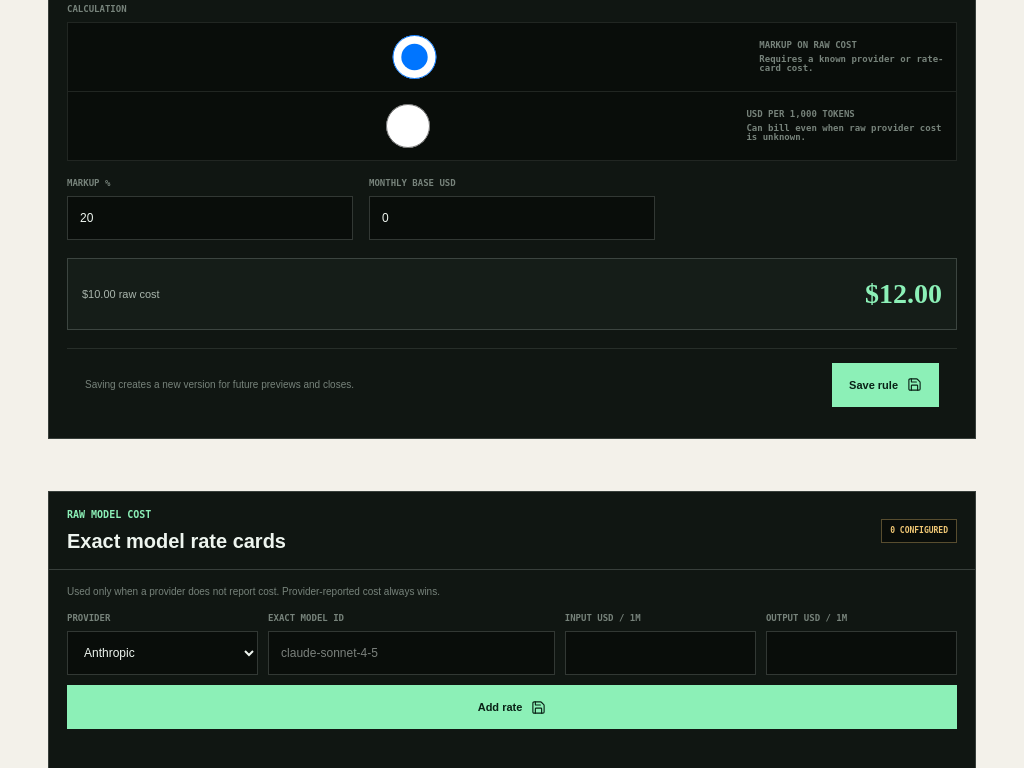
dashboard mutation failures › releases the pricing save button after a dropped connection
The width and height of the screenshot is (1024, 768).
(page scrolled)
Click the button "Save rule".
click(886, 385)  # box x1=832 y1=363 x2=939 y2=407
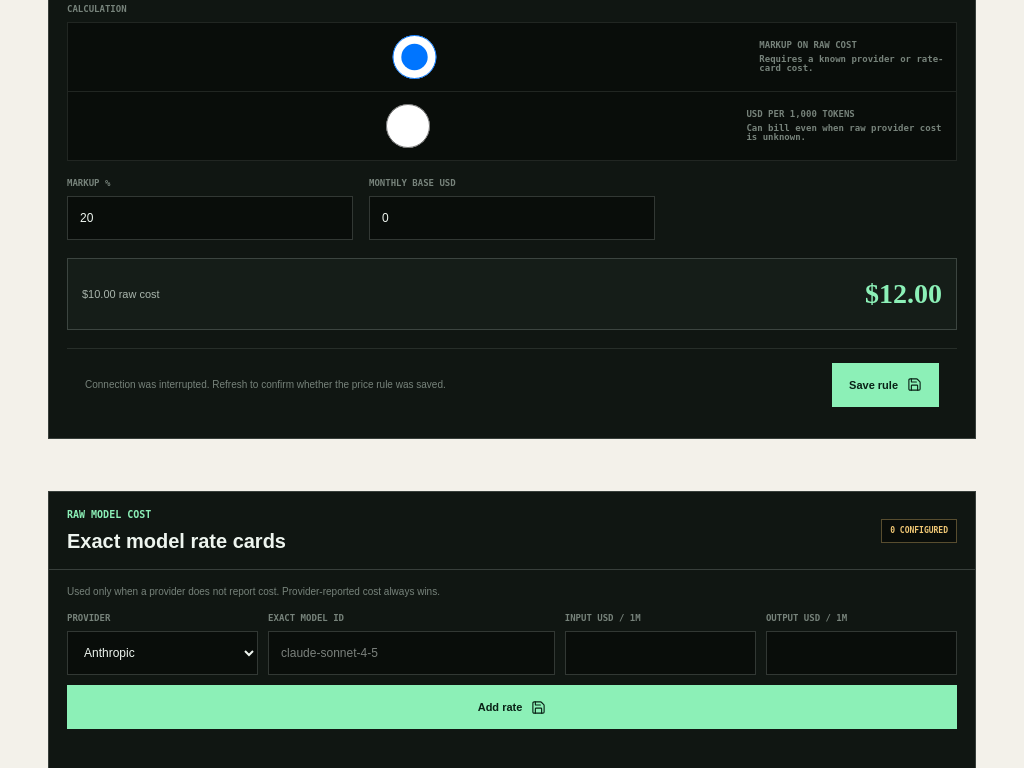
Result: the text "Connection was interrupted" is shown at x1=85 y1=379 x2=446 y2=390
